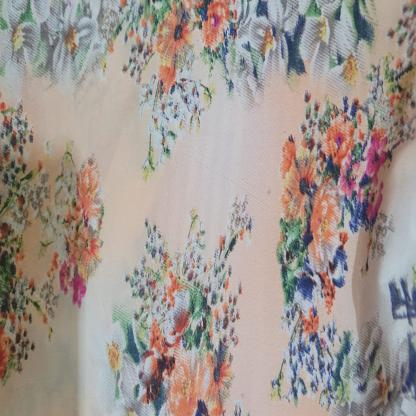spot: (264, 171, 276, 208)
